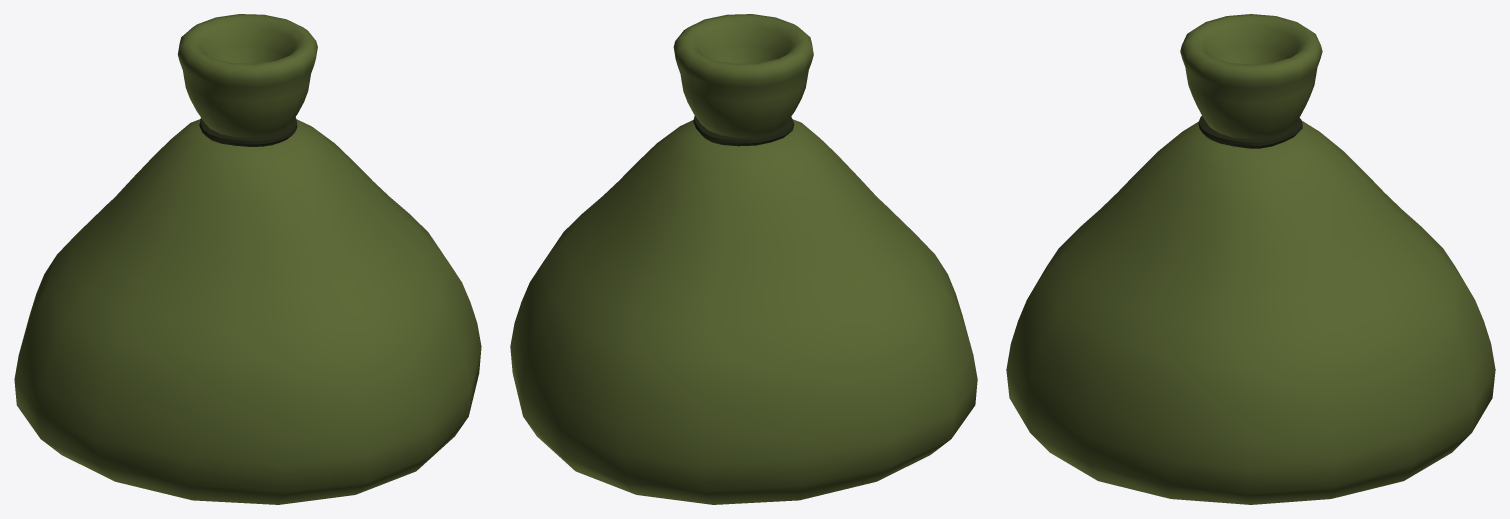
File: BolsaV_05.fbx
3 renders of one model, left to right at view 1: azimuth 30°, elevation 25°; view 2: azimuth 150°, elevation 25°; view 3: azimuth 270°, elevation 25°, orthographic.
Visible parts, largest first — view 1: BolsaV_05; view 2: BolsaV_05; view 3: BolsaV_05.
Part boxes in pixels (x1,y1,x2,y2): BolsaV_05: (14, 14, 481, 504); BolsaV_05: (510, 14, 977, 504); BolsaV_05: (1006, 14, 1495, 504).
Bounding box in the file's own units: 72.04 × 62.93 × 72.04.
